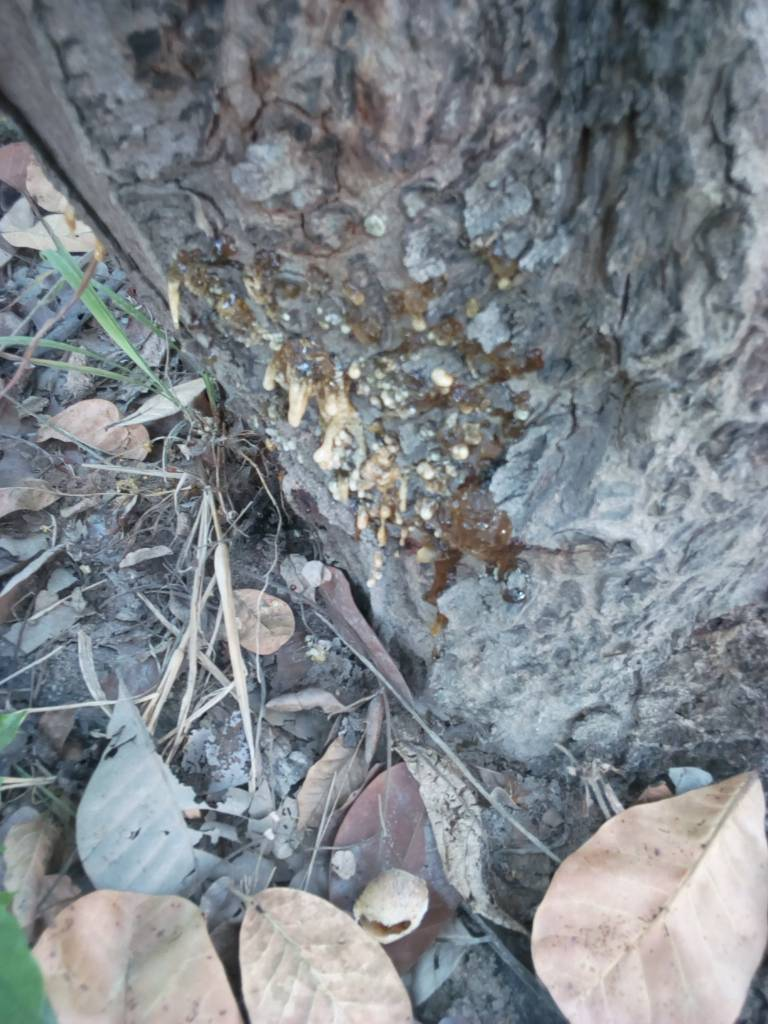Gommose: (185, 236, 572, 592)
